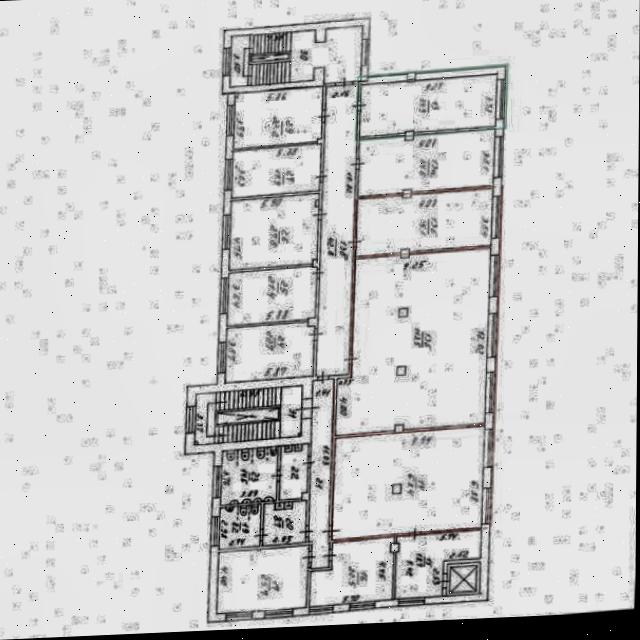room: (338, 248, 492, 442), (329, 429, 495, 542), (319, 86, 358, 379), (354, 192, 498, 258), (355, 133, 499, 198), (358, 77, 502, 138), (227, 28, 366, 90), (226, 195, 326, 271), (216, 547, 315, 616), (195, 387, 309, 445), (308, 540, 402, 608), (396, 533, 489, 601), (230, 88, 328, 149), (226, 268, 323, 327), (224, 323, 319, 383), (230, 145, 326, 199), (311, 381, 336, 571), (220, 448, 285, 506), (264, 502, 313, 546), (223, 504, 265, 551), (283, 445, 311, 502), (451, 569, 484, 597)
